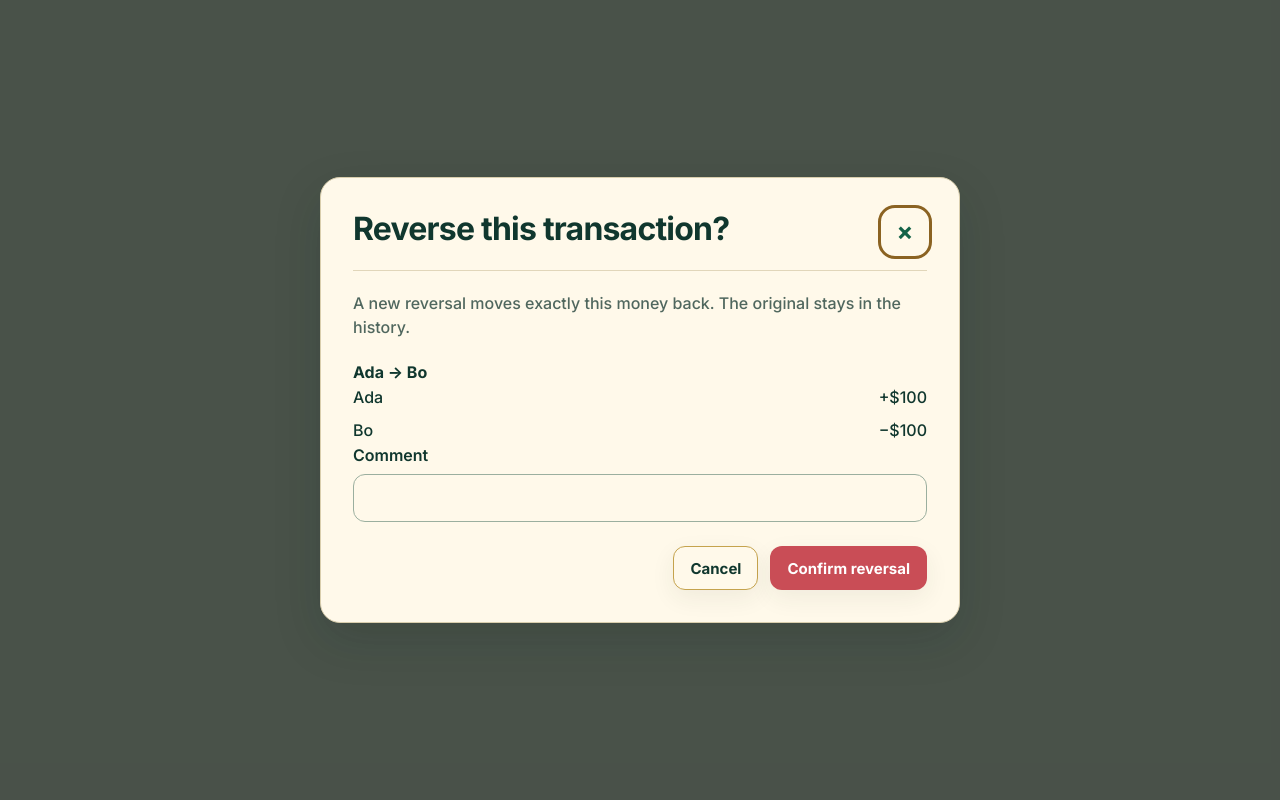
it: ReverseTransactionDialog › explains REVERSAL_WINDOW_EXPIRED and stays open
This screenshot has width=1280, height=800.
Click the button "Confirm reversal": point(849, 568) 770,546 -> 927,590
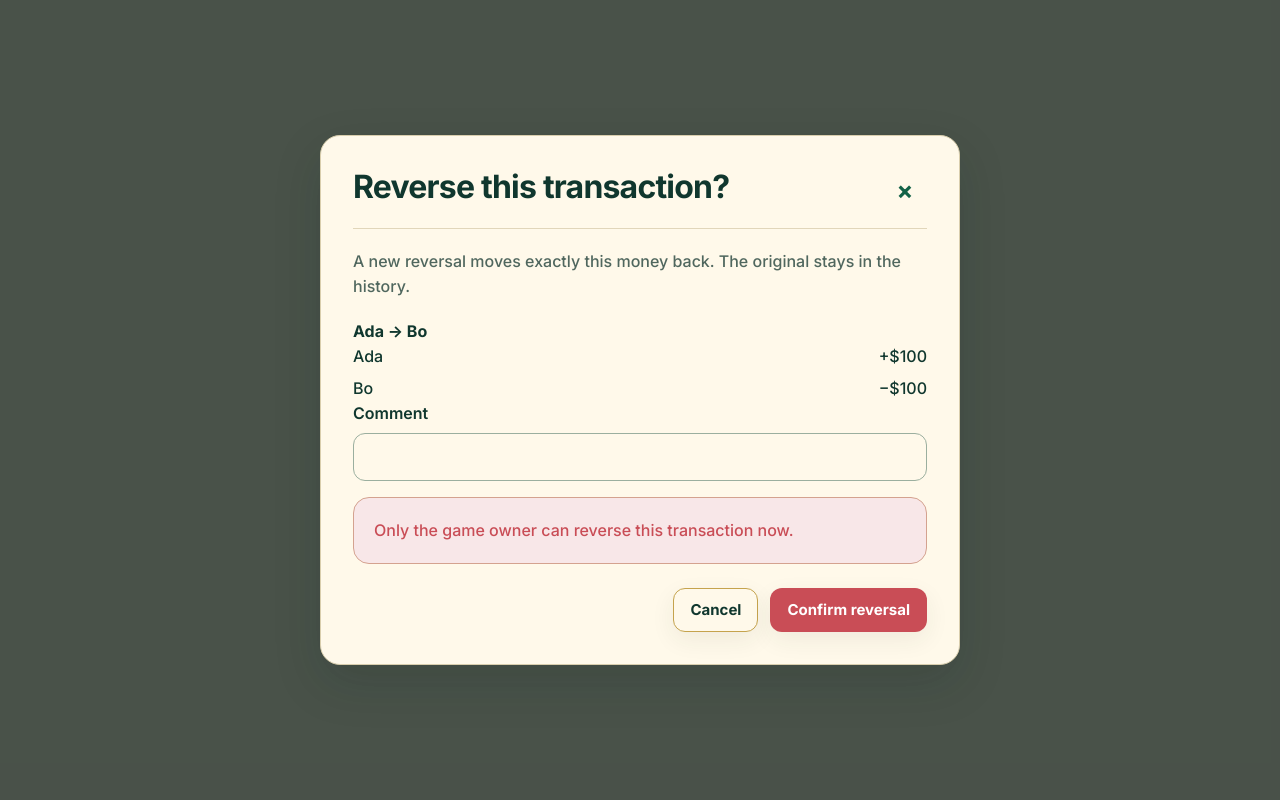
Check: the text "Only the game owner can reverse this transaction now." is shown, box 353,497 -> 927,564
